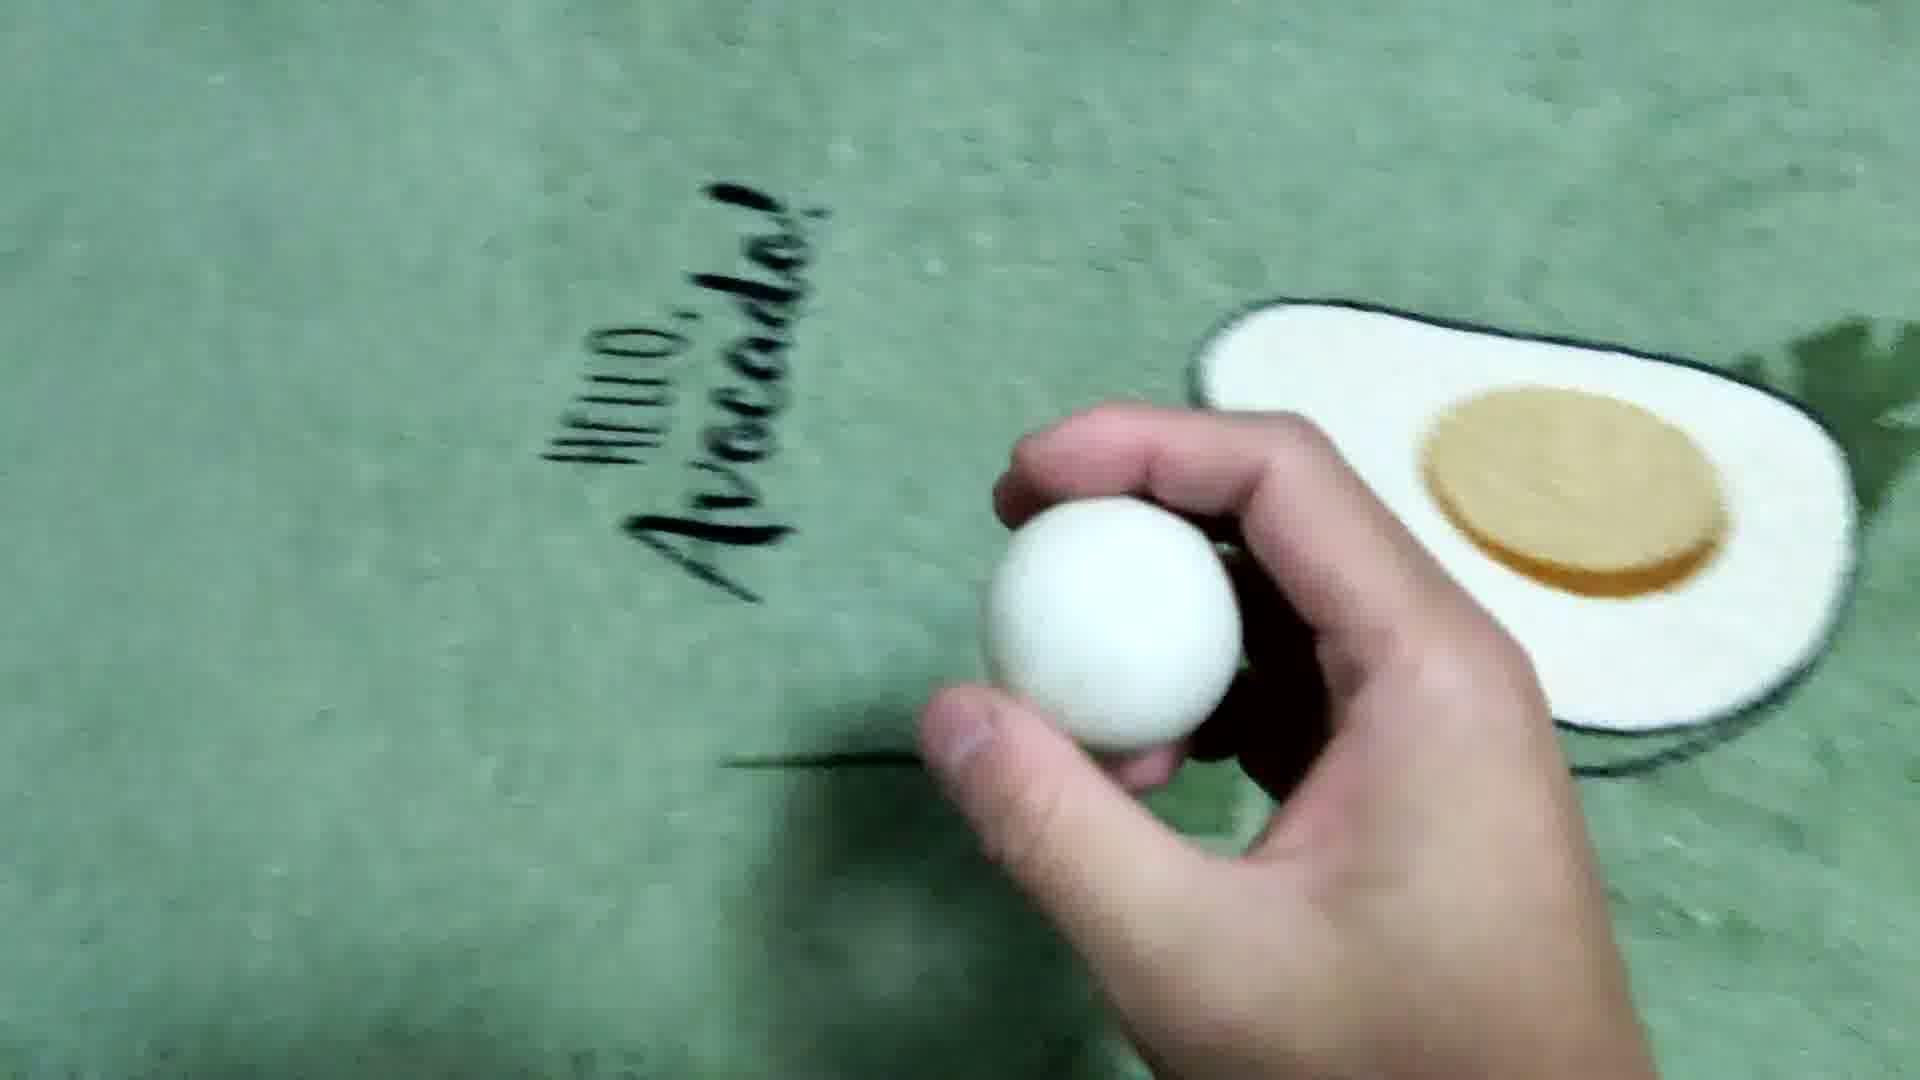Ball: (980, 495, 1241, 748)
